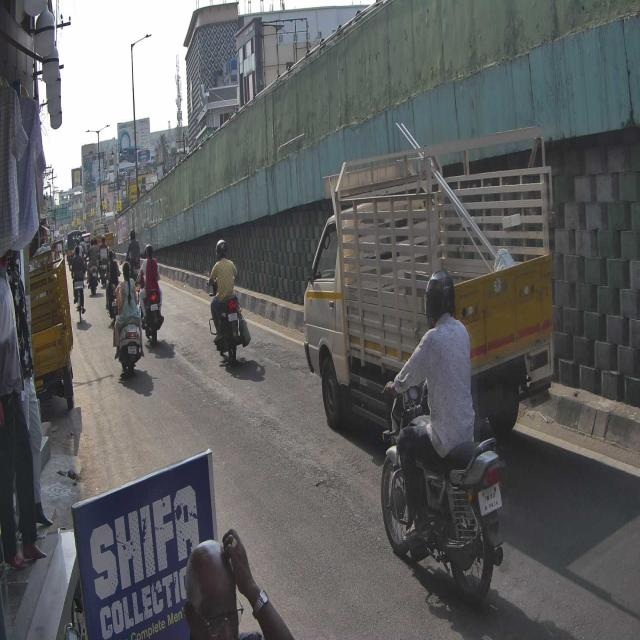single_rider: (381, 267, 505, 606)
